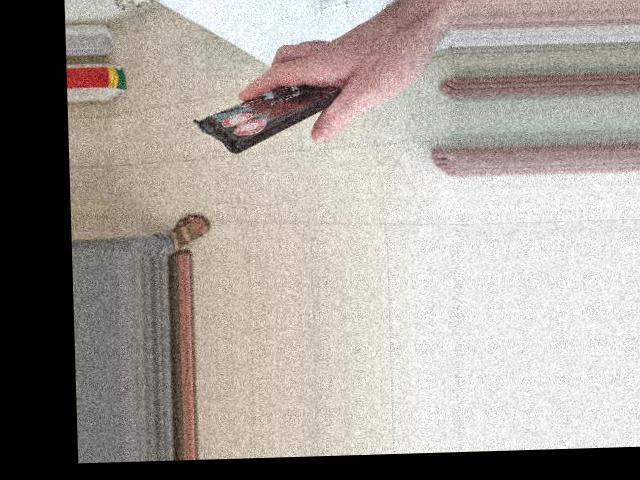chocolate: (192, 66, 354, 151)
